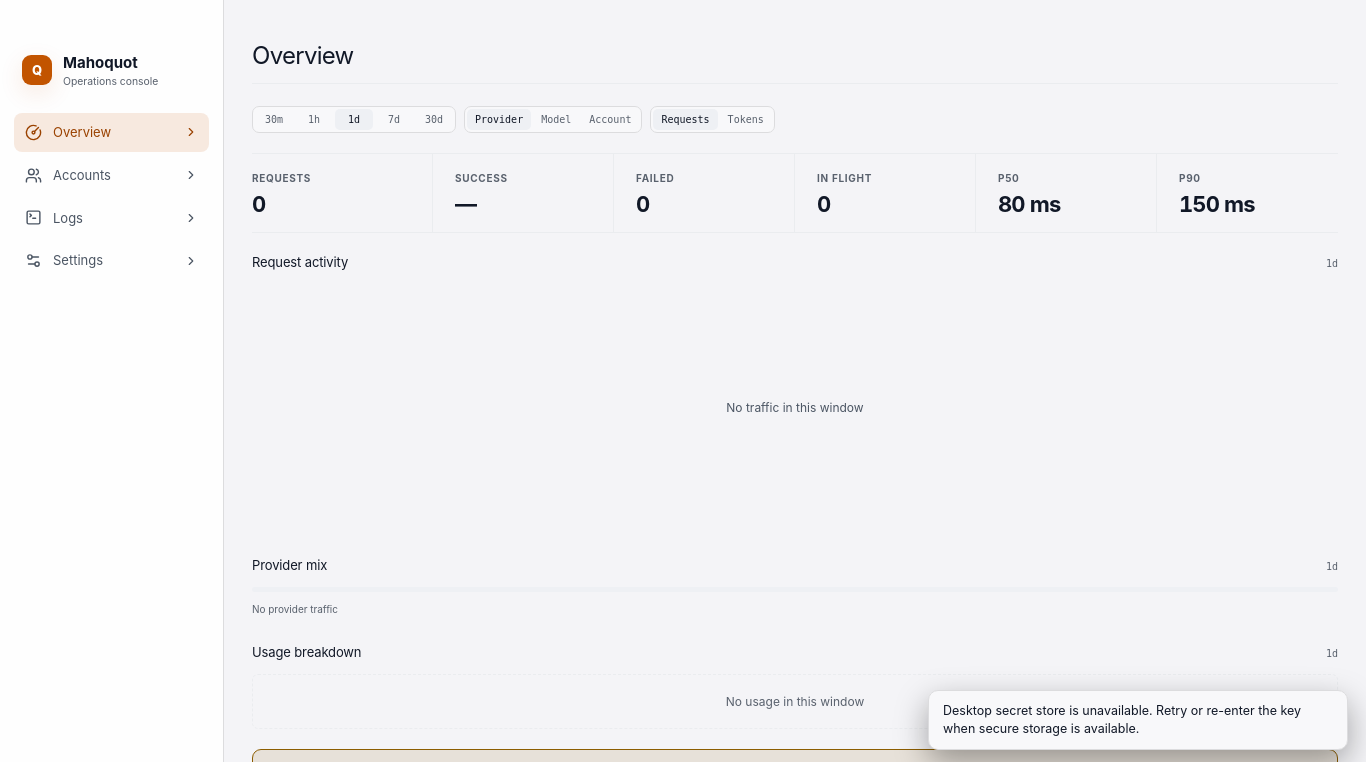
Devin discovery per-account truth feedback and lifecycle in App › reports per-account error truth on refresh even if top-level outcome claims success
Click the button "Accounts": point(112, 175) left=14, top=156, right=209, bottom=194
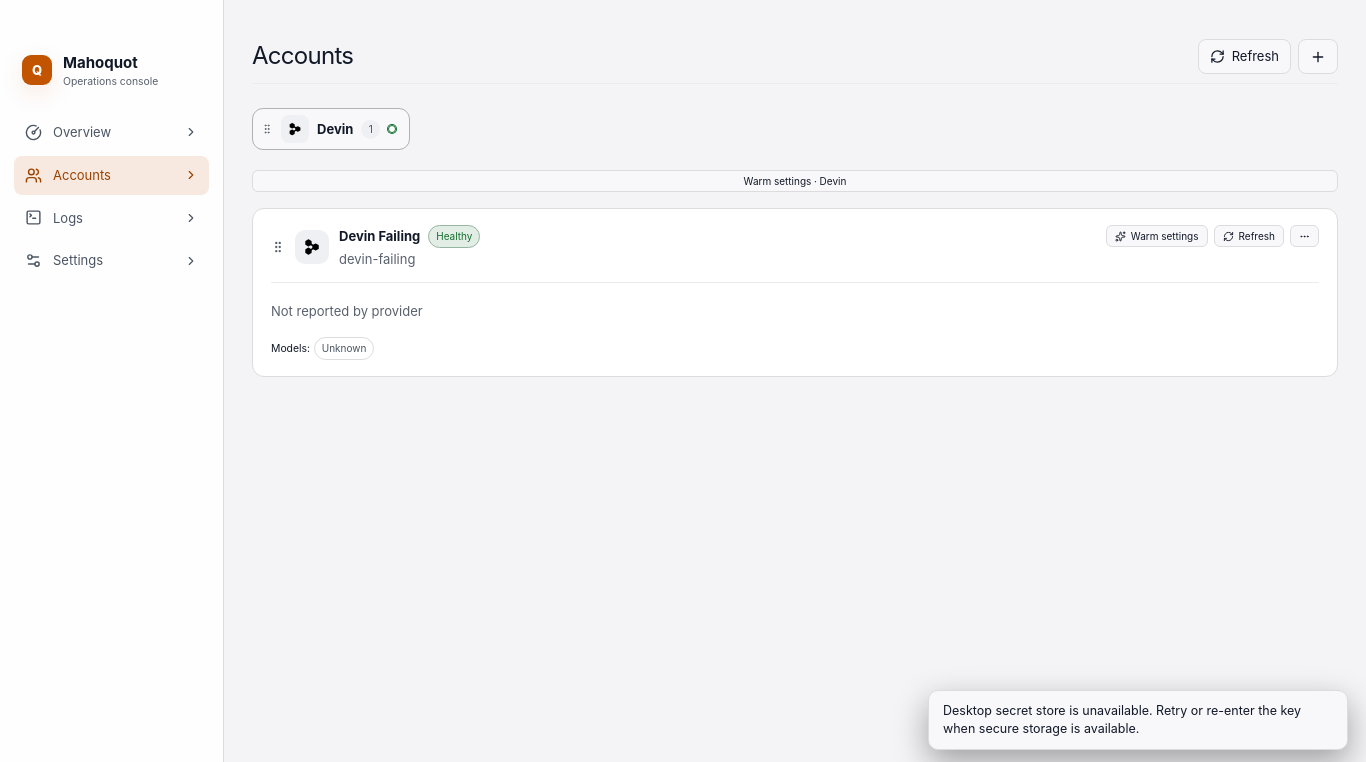
Now the text "Devin Failing" is shown, box left=339, top=227, right=420, bottom=246
# user clicks Refresh model discovery for devin-failing
Click the button named "more actions for devin failing": point(1304, 236) left=1290, top=225, right=1319, bottom=247
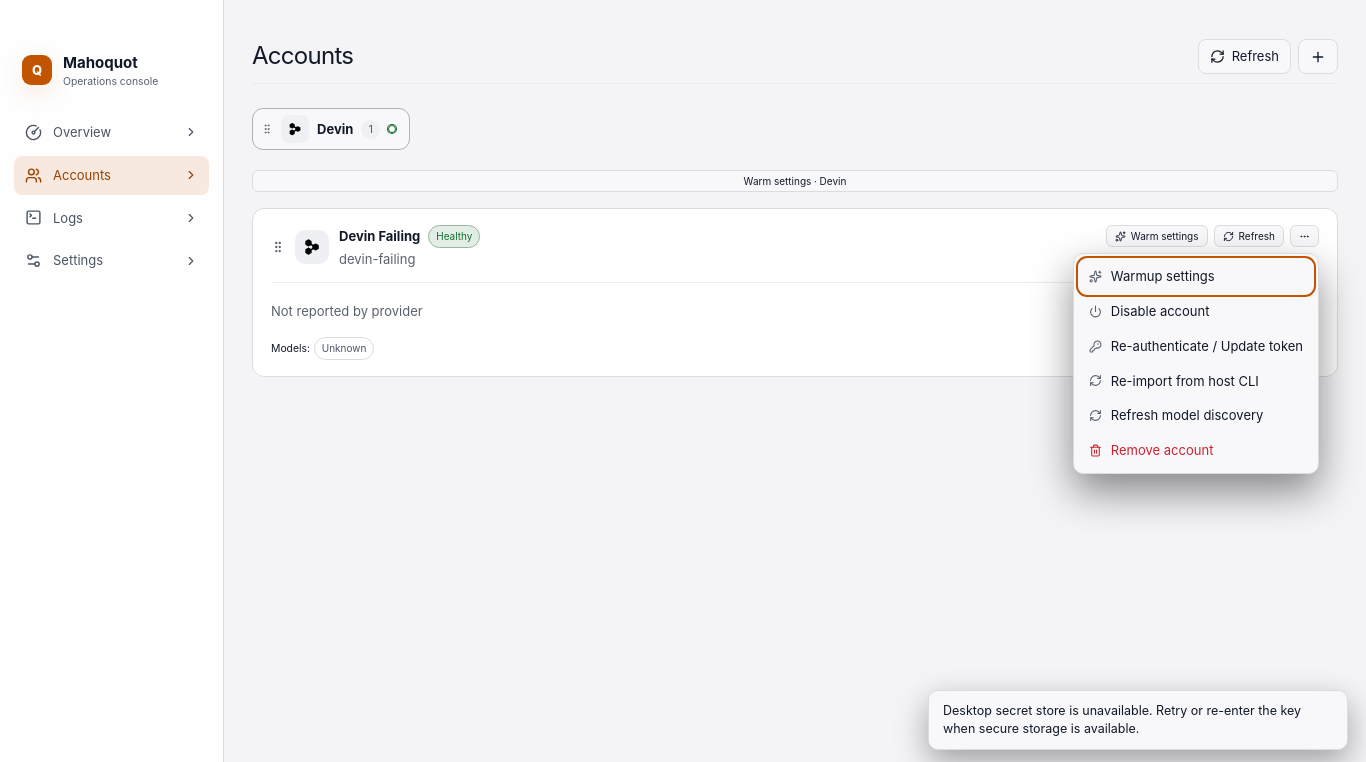
Click the menu item "Refresh model discovery": point(1196, 416) left=1080, top=399, right=1312, bottom=432
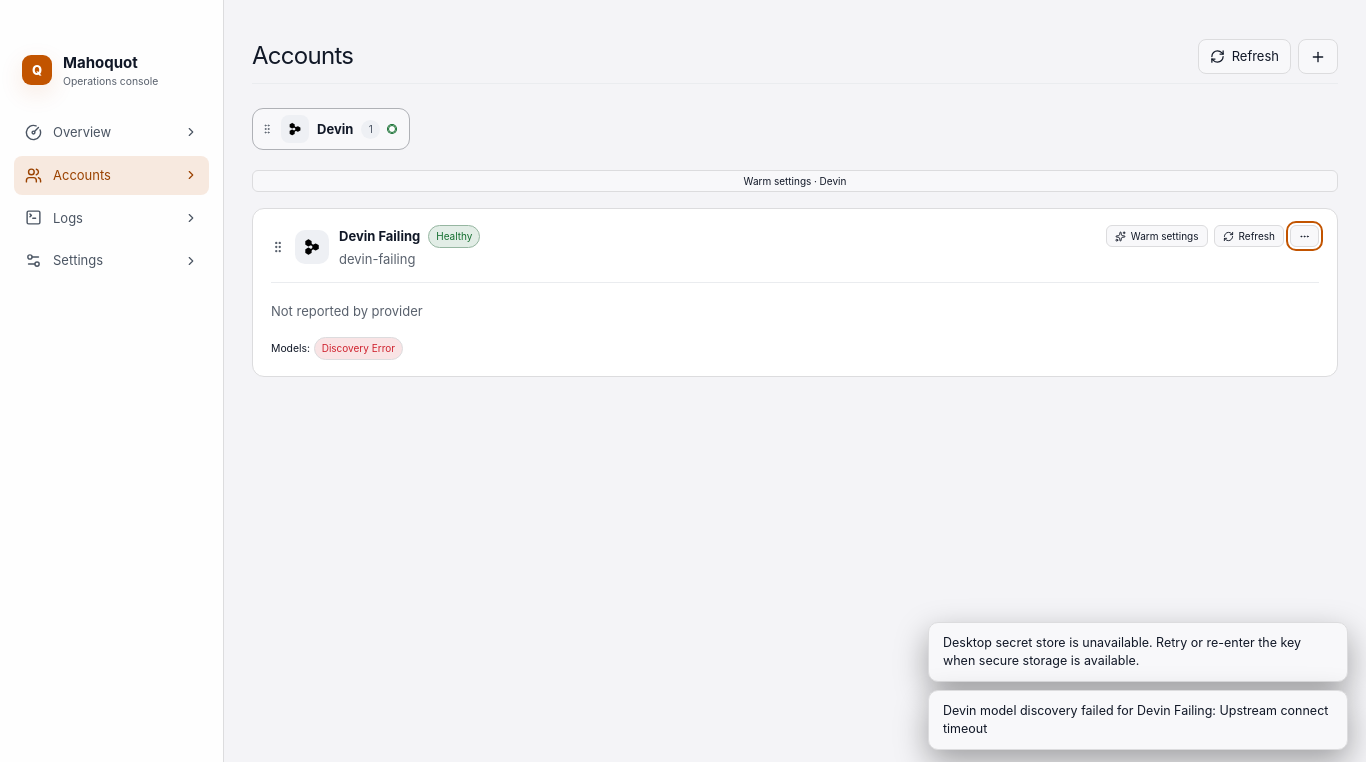
Now the button "Devin model discovery failed for Devin Failing: Upstream connect timeout" is shown, box left=928, top=690, right=1348, bottom=750
